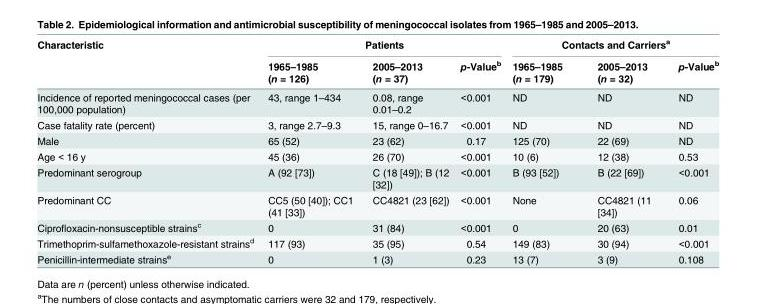table: (36, 36, 718, 264)
table column: (36, 36, 260, 264), (260, 36, 362, 264), (362, 36, 454, 264), (579, 36, 664, 264), (505, 36, 579, 264), (664, 36, 718, 264), (454, 36, 505, 264)
table column header: (36, 36, 718, 87)
table row: (36, 54, 718, 87), (36, 87, 718, 116), (36, 164, 718, 191), (36, 191, 718, 218), (36, 36, 718, 54), (36, 116, 718, 132), (36, 132, 718, 148), (36, 148, 718, 164), (36, 218, 718, 234), (36, 234, 718, 250), (36, 250, 718, 264)
table spanning cell: (36, 36, 260, 87), (260, 36, 505, 54), (505, 36, 718, 54)
